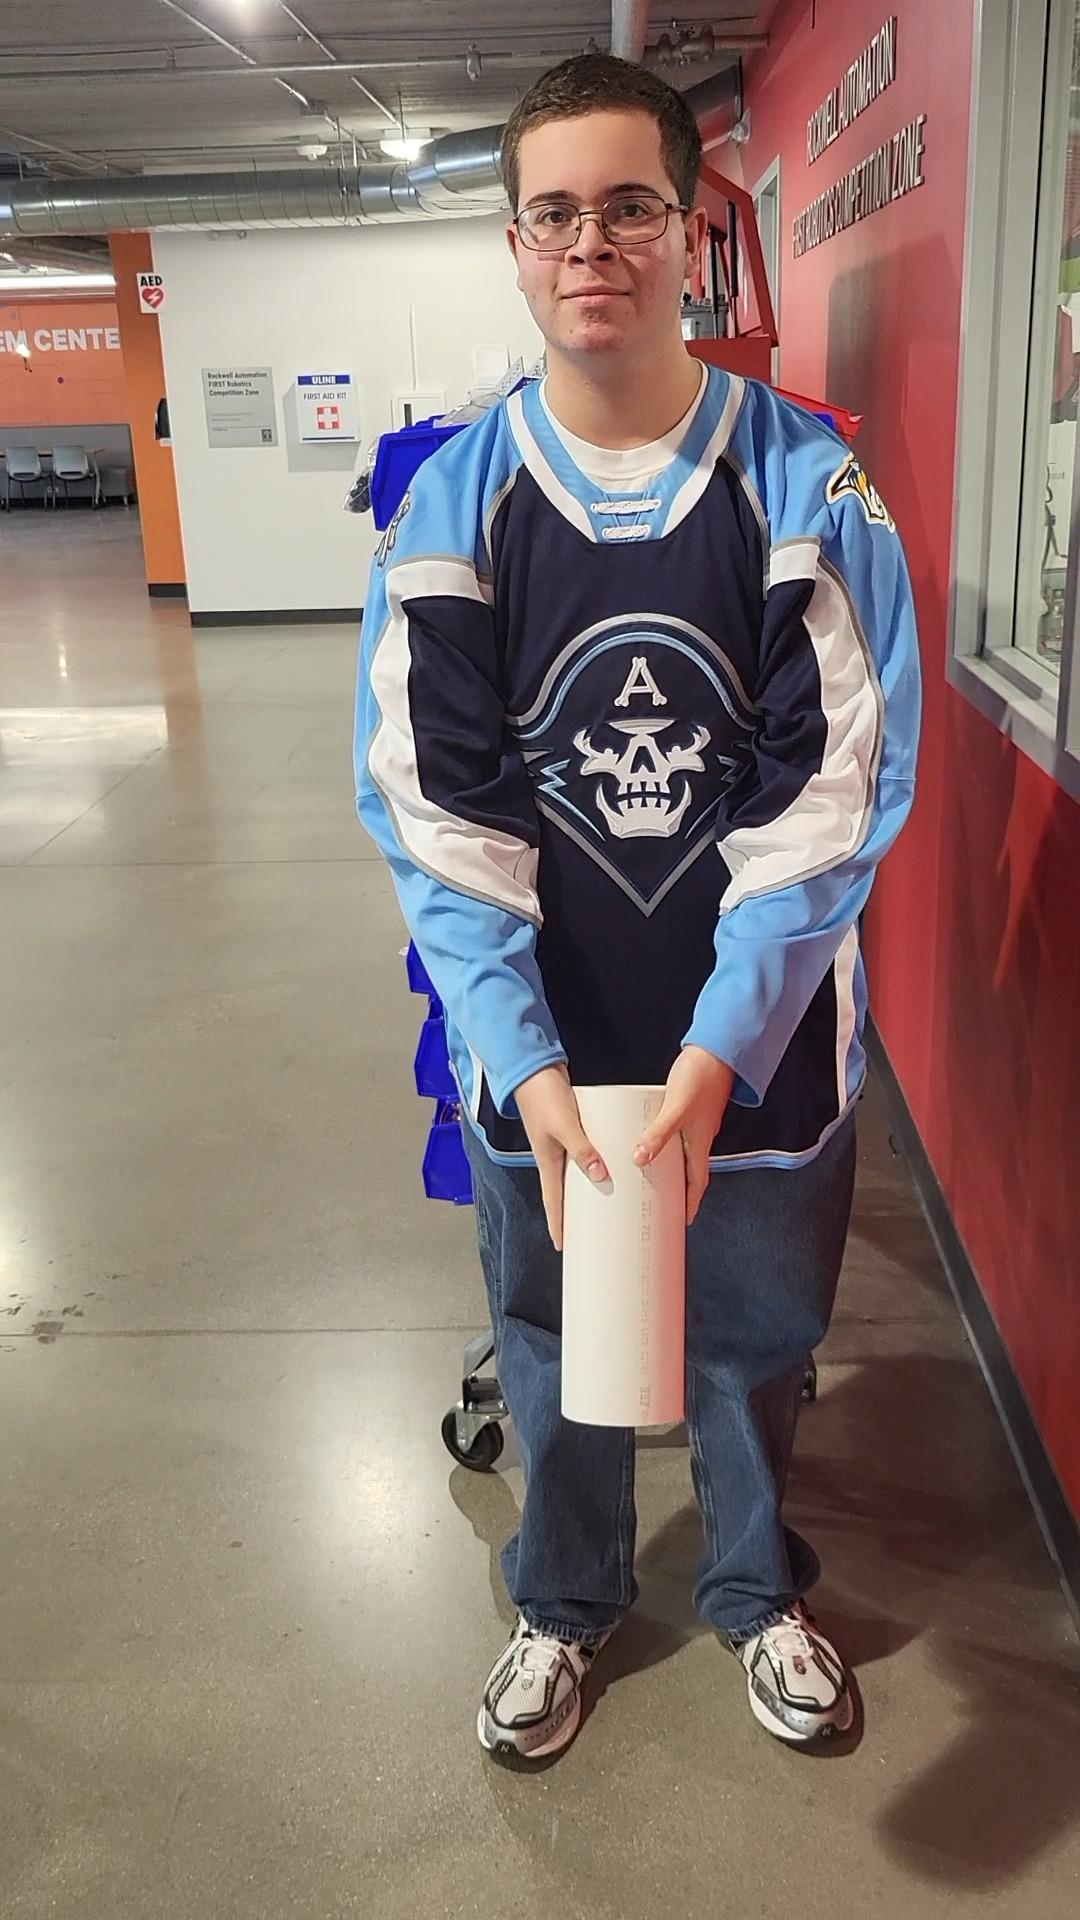coral: (550, 1068, 703, 1444)
